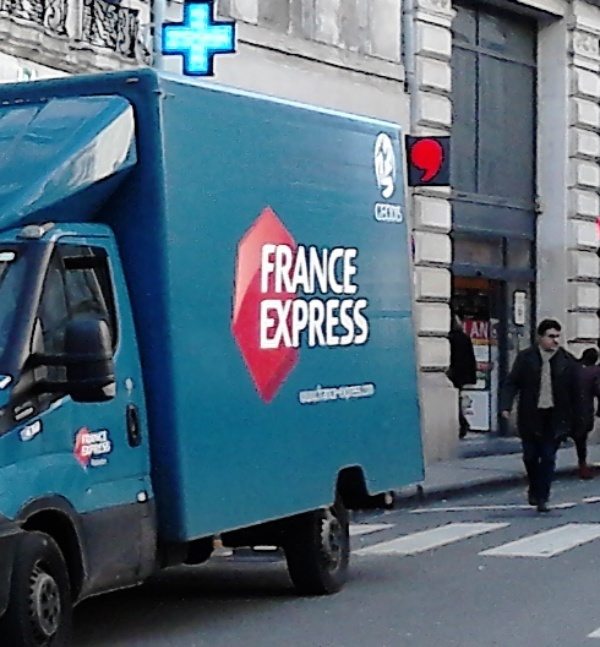text: (273, 297, 288, 350), (289, 297, 304, 350), (305, 297, 320, 350), (321, 297, 336, 350), (337, 297, 352, 350), (353, 297, 368, 350), (273, 244, 288, 296), (289, 244, 304, 296), (305, 244, 320, 296), (321, 244, 336, 296), (337, 244, 352, 296), (261, 297, 272, 350), (261, 244, 272, 296), (305, 374, 320, 409), (321, 374, 336, 409), (337, 374, 352, 409), (353, 374, 368, 409), (369, 374, 384, 409), (81, 427, 96, 461), (97, 427, 112, 461), (353, 244, 361, 296), (385, 201, 400, 225), (465, 317, 480, 339), (372, 201, 384, 225), (296, 374, 304, 409), (481, 317, 493, 339), (369, 297, 372, 350), (457, 317, 464, 339), (401, 201, 406, 225), (113, 427, 116, 461), (78, 427, 80, 461), (385, 374, 386, 409)
